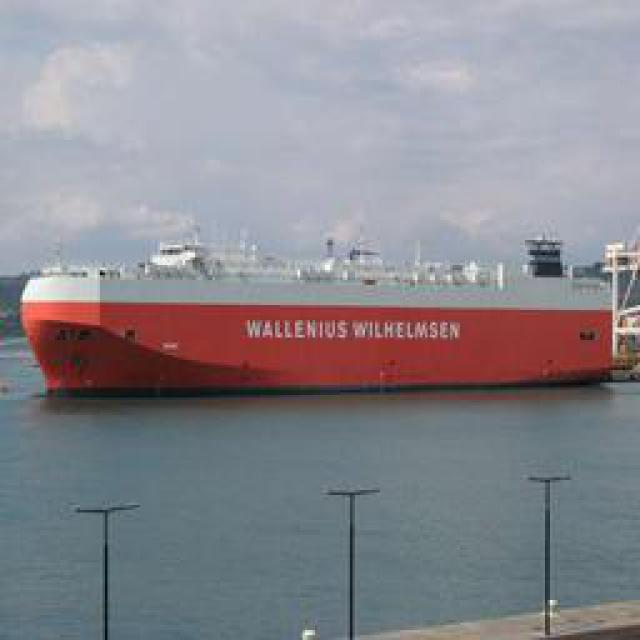Ship: (8, 221, 633, 394)
